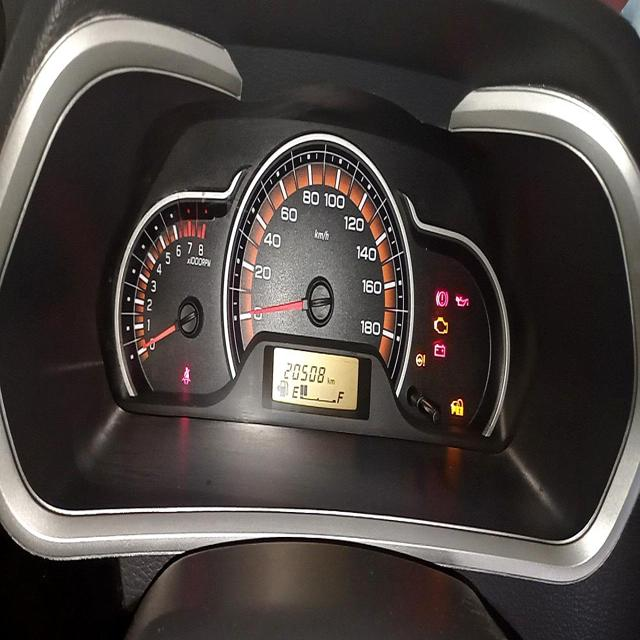odometer: (283, 355, 327, 386)
